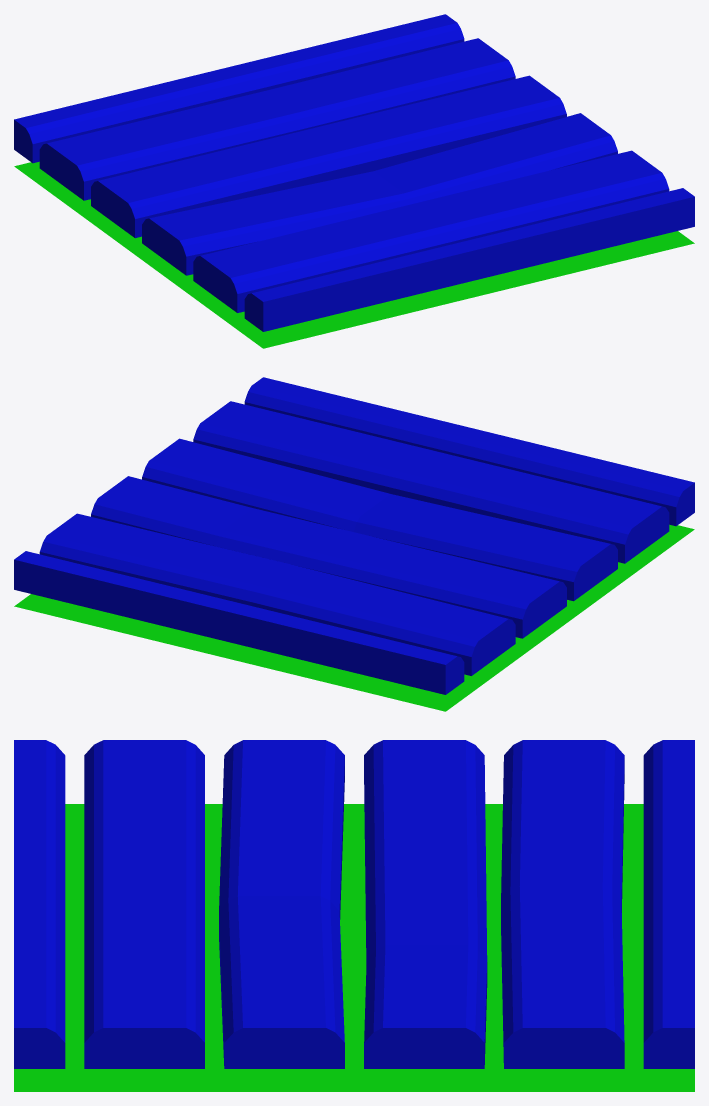
The model's file is MBSSecondPack_FloorWoodenPlanks.fbx.
3 views of the same model, one above another, from view 1: azimuth 30°, elevation 25°; view 2: azimuth 150°, elevation 25°; view 3: azimuth 270°, elevation 25° (orthographic). The views are drawn at different scales.
Parts seen in each view (by area): view 1: Cube; view 2: Cube; view 3: Cube.
Boxes of the visible parts, box(x1,y1,x2,y2) form: Cube: box(14, 14, 694, 348); Cube: box(14, 377, 694, 711); Cube: box(14, 740, 694, 1091).
Size of the model in its own units: 150 by 15.63 by 150.
